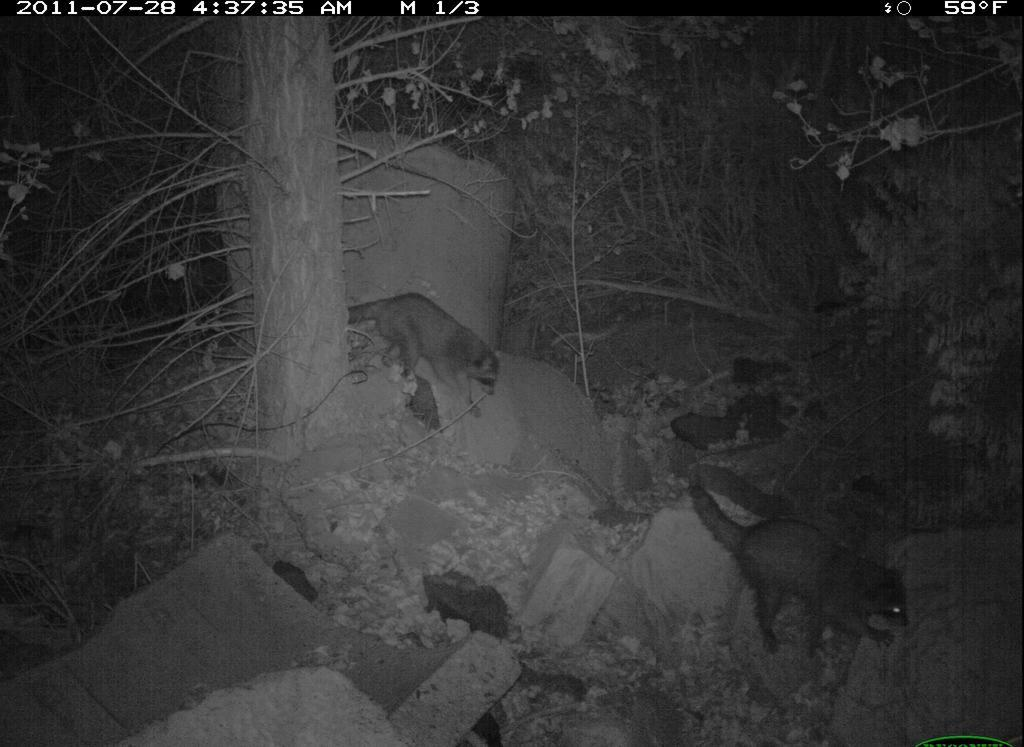raccoon: (684, 474, 918, 652), (344, 286, 510, 404)
